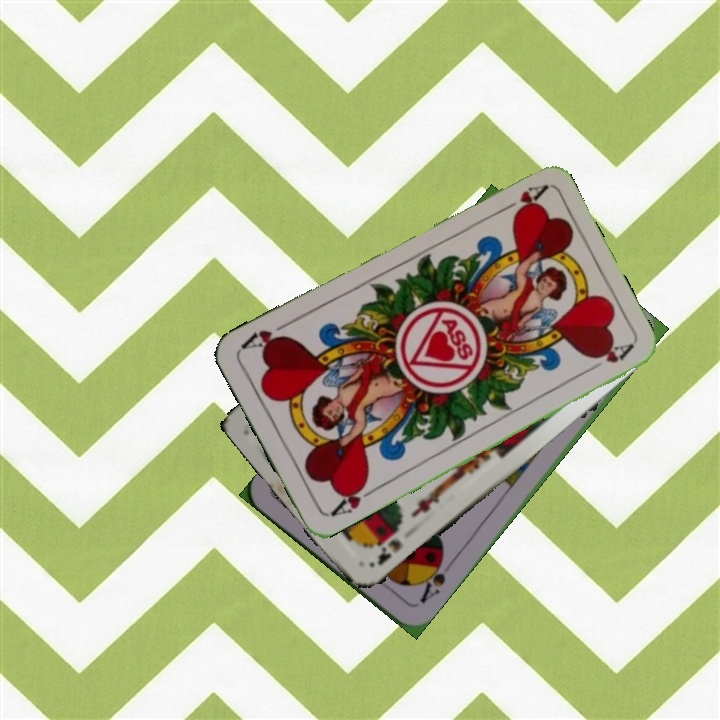HA: (326, 477, 380, 519), (493, 181, 549, 219)
SA: (415, 552, 449, 607)
SK: (373, 524, 405, 568)
